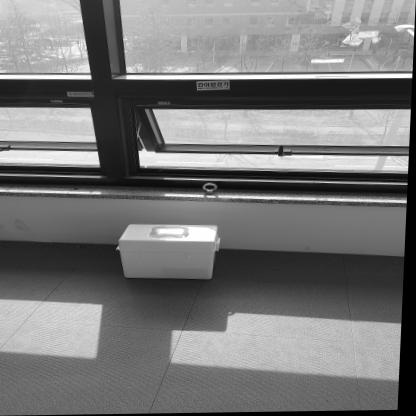DDL: (121, 222, 221, 282)
